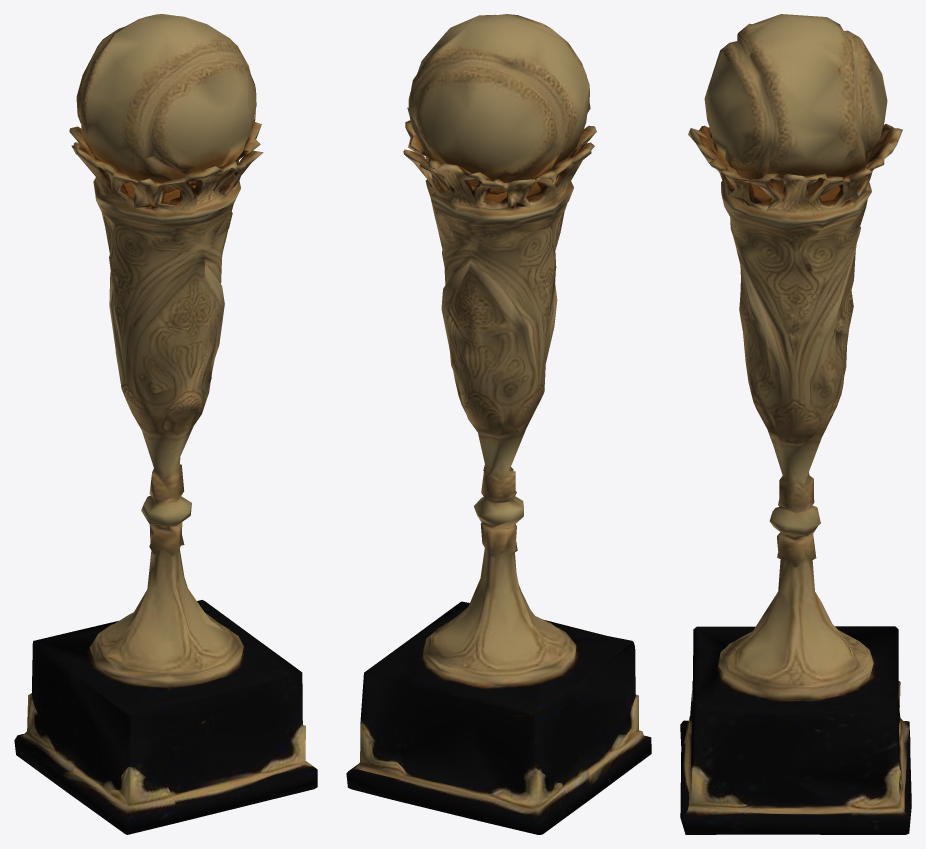
File: pokal_gold.glb
3 views of the same model, side by side, from view 1: azimuth 30°, elevation 25°; view 2: azimuth 150°, elevation 25°; view 3: azimuth 270°, elevation 25° (orthographic). The views are drawn at different scales.
Visible parts, largest first — view 1: tripo_node_7df10a6a-12dc-469f-8be1-b2208b0e494b; view 2: tripo_node_7df10a6a-12dc-469f-8be1-b2208b0e494b; view 3: tripo_node_7df10a6a-12dc-469f-8be1-b2208b0e494b.
Part boxes in pixels (x1,y1,x2,y2): tripo_node_7df10a6a-12dc-469f-8be1-b2208b0e494b: (14,14,317,834); tripo_node_7df10a6a-12dc-469f-8be1-b2208b0e494b: (346,14,651,834); tripo_node_7df10a6a-12dc-469f-8be1-b2208b0e494b: (680,14,911,834).
Size of the model in its own units: 0.2738 by 1 by 0.2737.
1 material, 1 textured.
